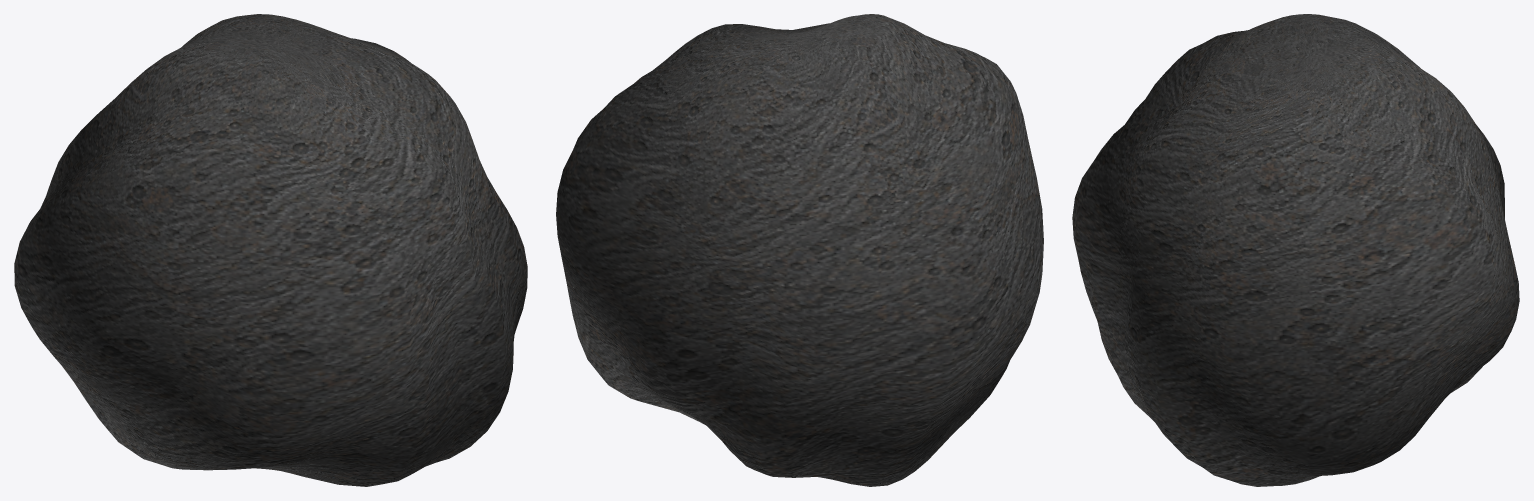
The model's file is asteroid.obj.
The picture shows the model from 3 angles, left to right: view 1: azimuth 30°, elevation 25°; view 2: azimuth 150°, elevation 25°; view 3: azimuth 270°, elevation 25°; orthographic projection. The views are drawn at different scales.
Parts seen in each view (by area): view 1: Asteroid; view 2: Asteroid; view 3: Asteroid.
Boxes of the visible parts, x1,y1,x2,y2 form: Asteroid: [14, 14, 527, 486]; Asteroid: [556, 14, 1043, 486]; Asteroid: [1072, 14, 1519, 486].
Size of the model in its own units: 2.11 by 2.01 by 2.05.
